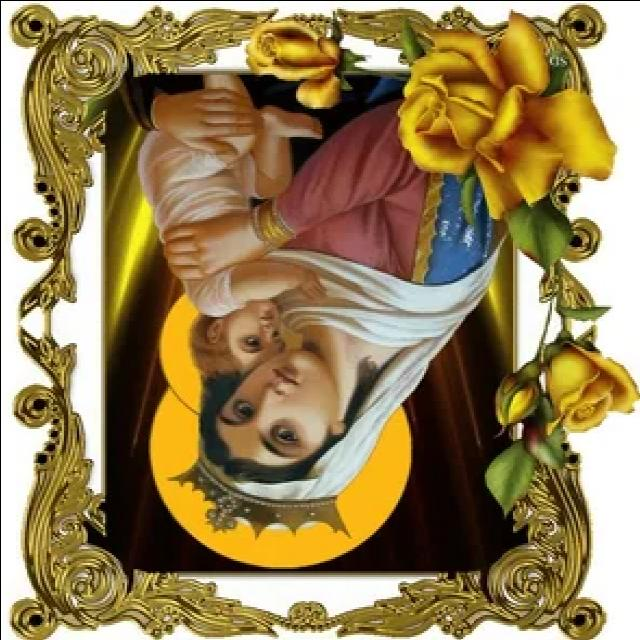mother of god: (118, 70, 522, 546)
